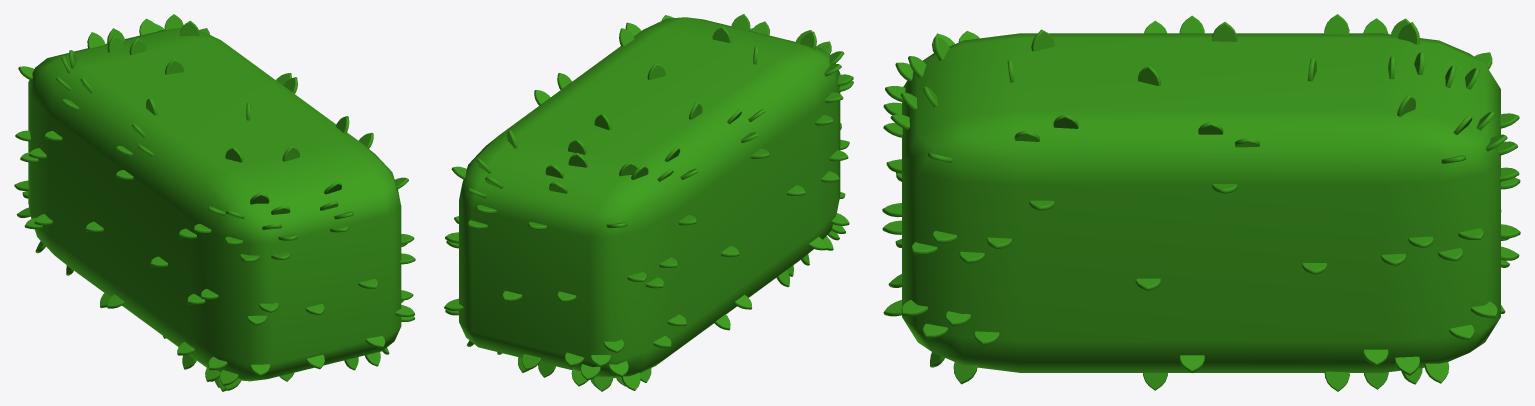
The model's file is vine_summer.fbx.
3 renders of one model, left to right at view 1: azimuth 30°, elevation 25°; view 2: azimuth 150°, elevation 25°; view 3: azimuth 270°, elevation 25°, orthographic. The views are drawn at different scales.
Parts seen in each view (by area): view 1: Circle.014; view 2: Circle.014; view 3: Circle.014.
Boxes of the visible parts, <box> form: Circle.014: <box>14,14,415,391</box>; Circle.014: <box>444,14,853,391</box>; Circle.014: <box>882,14,1520,391</box>.
Size of the model in its own units: 126 by 250 by 126.
